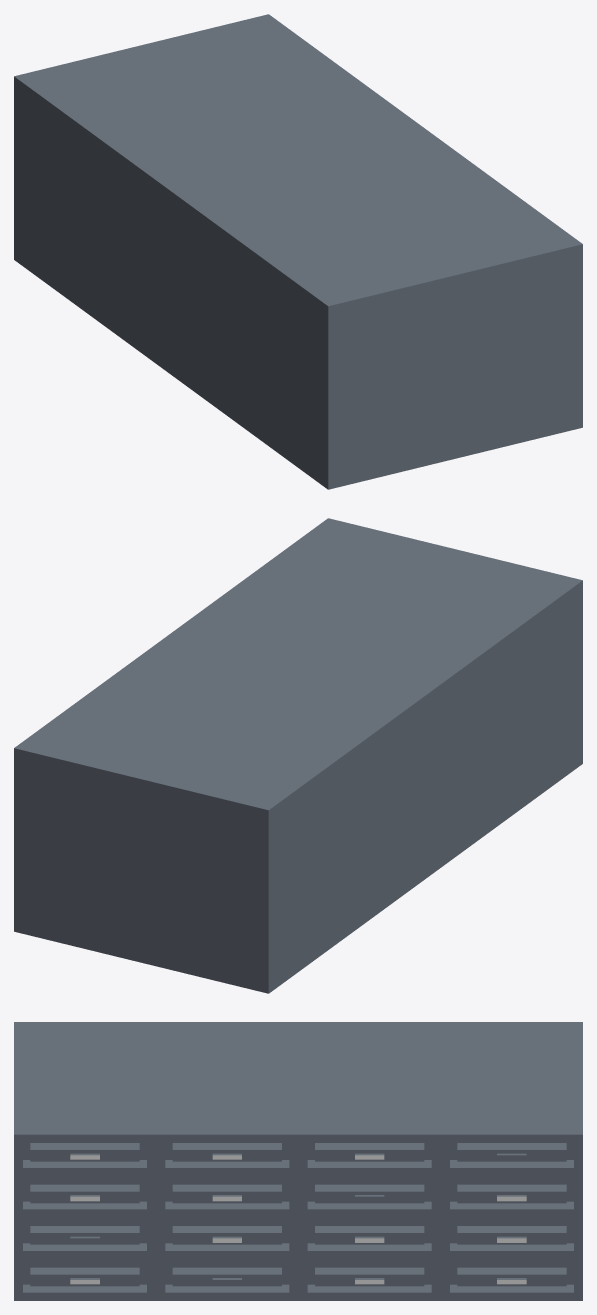
3 views of the same model, one above another, from view 1: azimuth 30°, elevation 25°; view 2: azimuth 150°, elevation 25°; view 3: azimuth 270°, elevation 25° (orthographic). The views are drawn at different scales.
Parts seen in each view (by area): view 1: file box; view 2: file box; view 3: file box.
Part boxes in pixels (<box>): file box: <box>14,14,582,489</box>; file box: <box>14,518,582,993</box>; file box: <box>14,1022,582,1300</box>.
Size of the model in its own units: 95.32 by 64.44 by 200.
